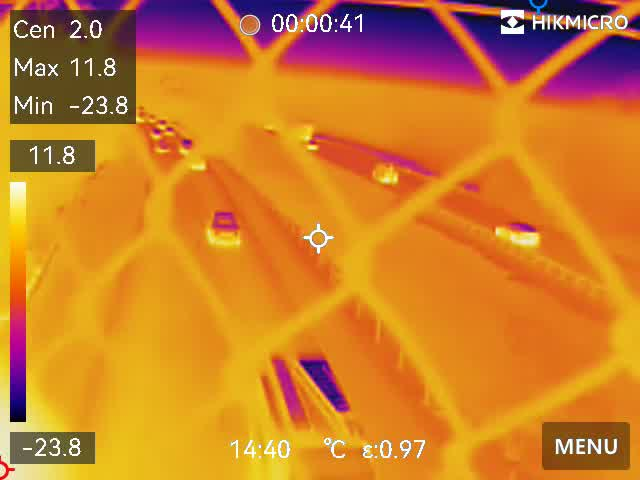lightTruck: (245, 346, 380, 480)
smallCar: (495, 218, 543, 246)
vehicle: (206, 209, 242, 251), (371, 162, 402, 190), (153, 141, 174, 160), (298, 137, 319, 150), (180, 137, 196, 153), (162, 126, 177, 137), (134, 114, 150, 124), (155, 117, 170, 127), (150, 128, 162, 140)
